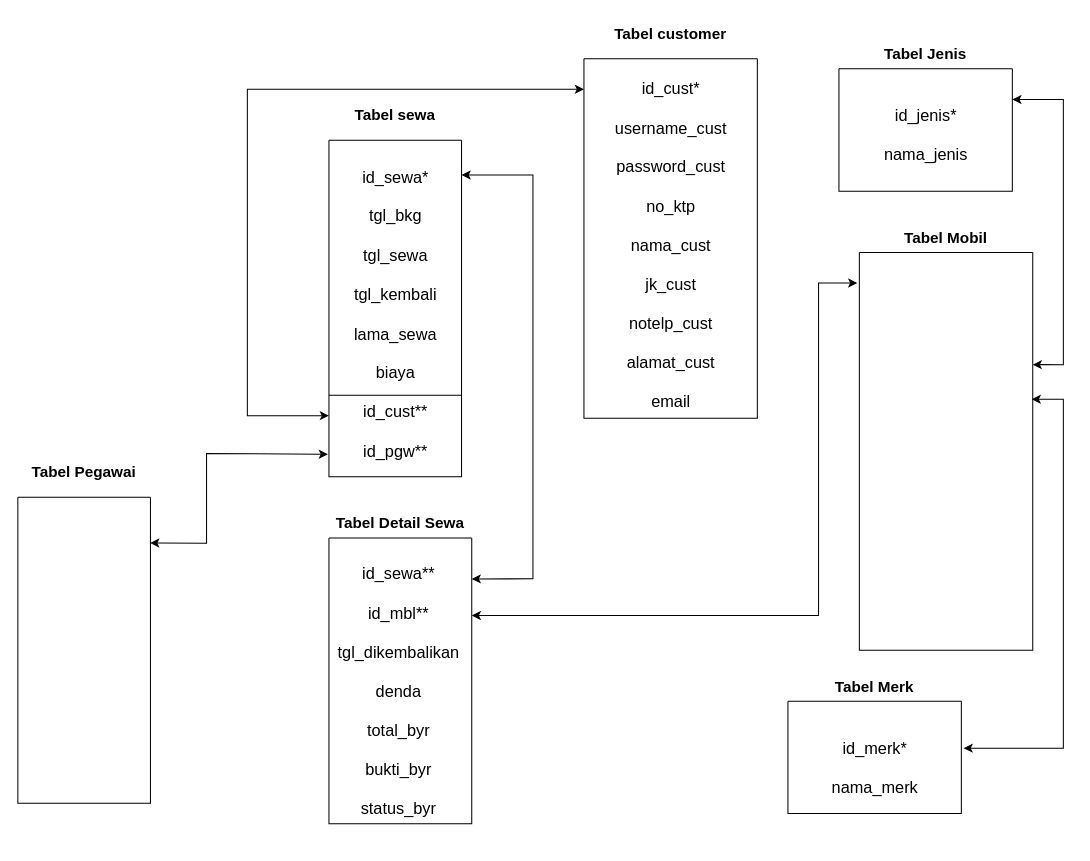
Image size: 1090x861. Some labels were removed from this diagram. Here are the shapes that lost their labels. From the top down, the centre of each, then its label:
point 945,450: id_mbl* nama_mbl id_jenis** id_merk** nopol stok harga warna gmbr_mbl desk_mbl
point 83,649: id_pgw* username_pgw password_pgw nama_pgw jk_pgw notelp_pgw alamat_pgw
